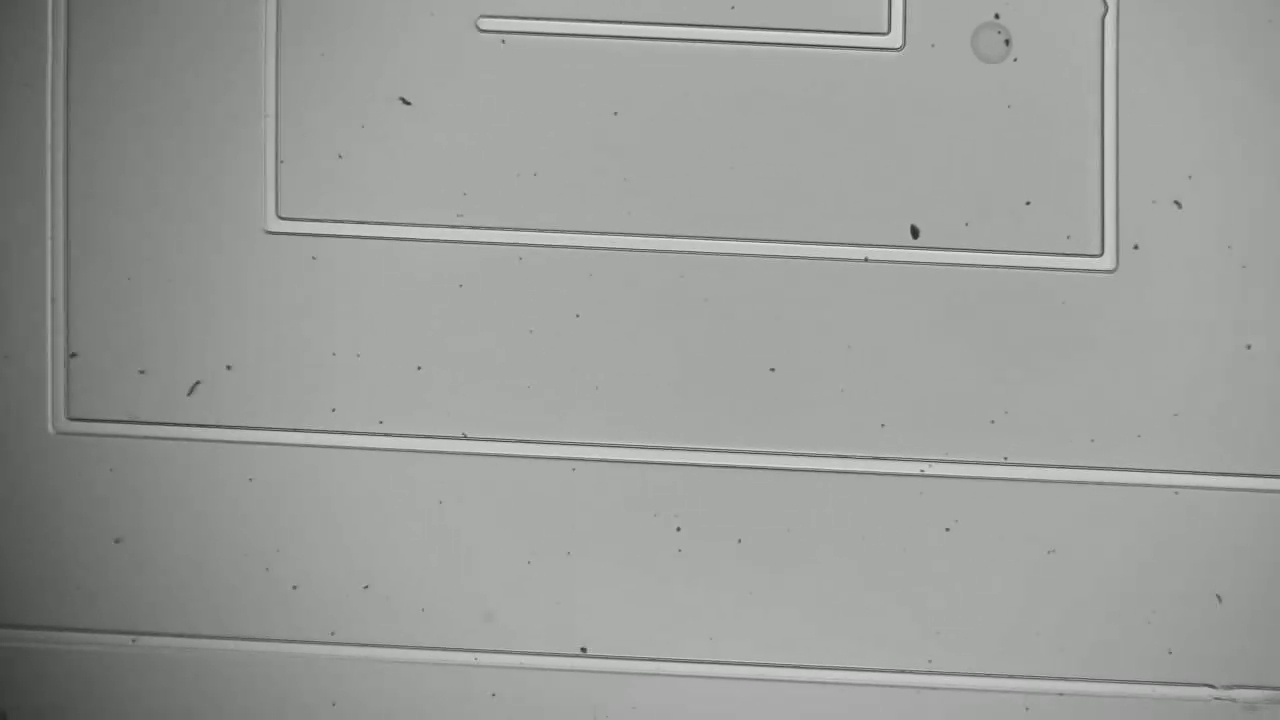edge_bite: (1193, 675, 1244, 712), (1087, 0, 1128, 30)
